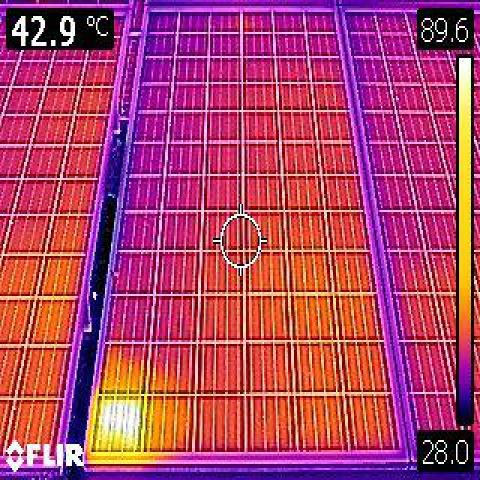fault: (85, 394, 147, 454)
